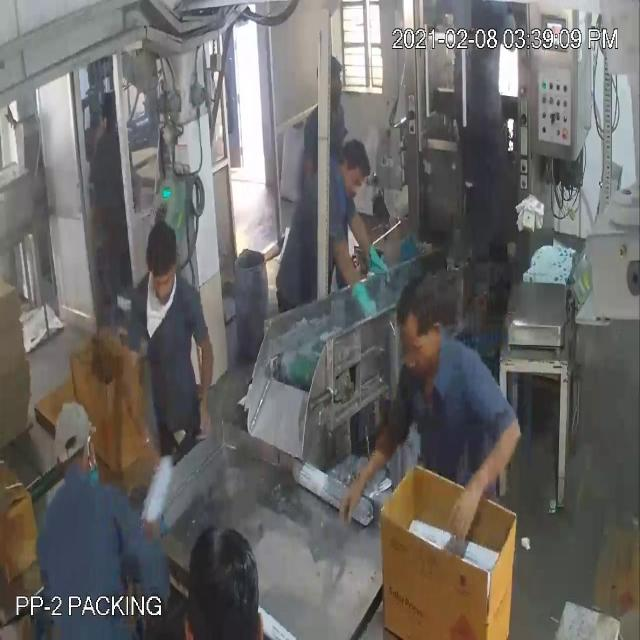No_Gloves: (26, 86, 485, 477)
